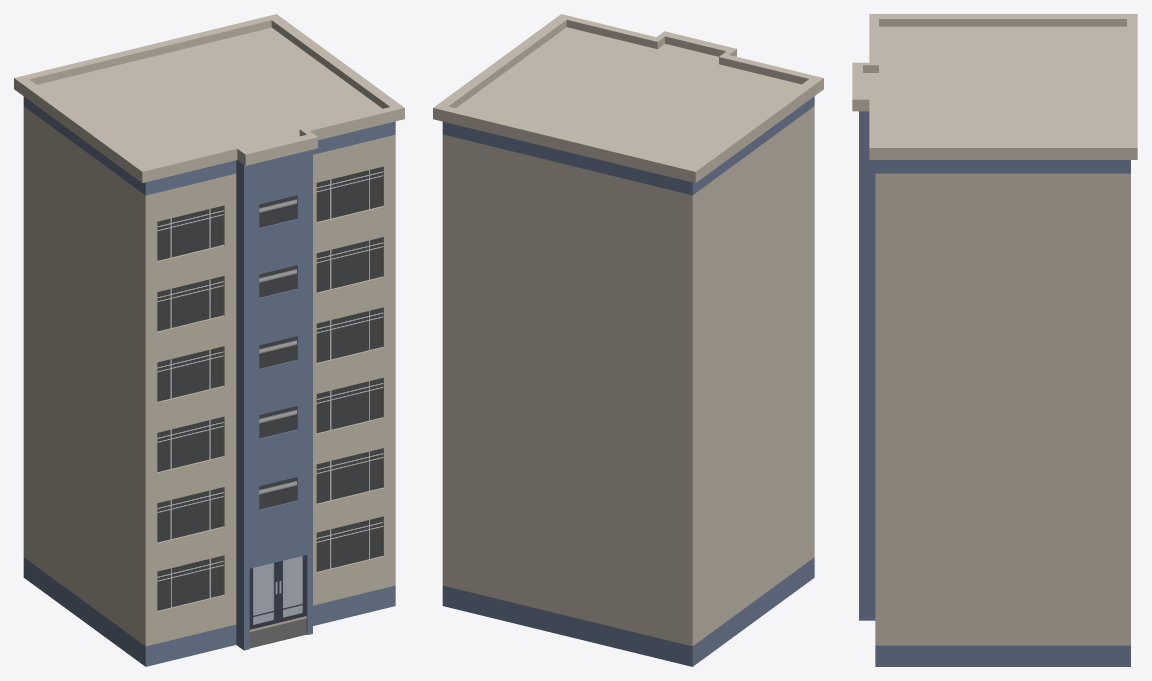
Rendered from Building Sky_big_color01.fbx.
3 renders of one model, left to right at view 1: azimuth 30°, elevation 25°; view 2: azimuth 150°, elevation 25°; view 3: azimuth 270°, elevation 25°, orthographic. The views are drawn at different scales.
Visible parts, largest first — view 1: Building Sky_big_color01; view 2: Building Sky_big_color01; view 3: Building Sky_big_color01.
Part boxes in pixels (left/top/right/bottom): Building Sky_big_color01: left=14, top=14, right=404, bottom=666; Building Sky_big_color01: left=433, top=14, right=823, bottom=666; Building Sky_big_color01: left=852, top=14, right=1137, bottom=666.
Size of the model in its own units: 1366 by 2480 by 1230.
